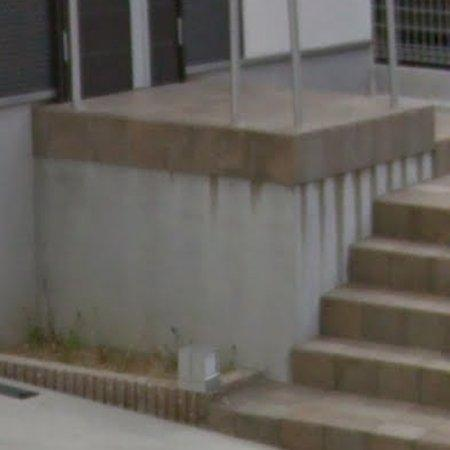stairs: (208, 175, 450, 450)
